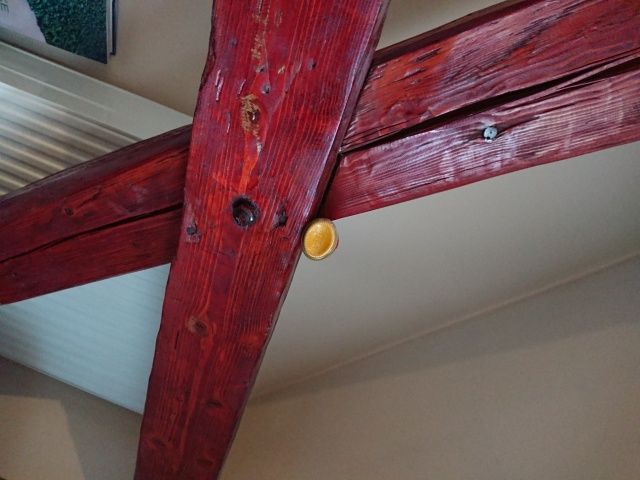Kotanyi Curry Spices Mix 70g: (299, 215, 341, 263)
